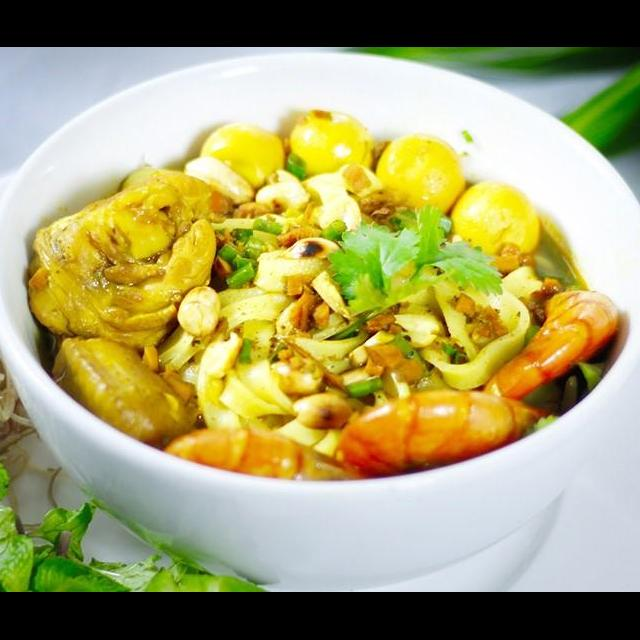mi: (152, 152, 548, 436)
thit ga: (20, 175, 222, 358), (52, 332, 202, 456)
tom: (328, 384, 556, 486), (478, 286, 622, 414), (154, 424, 372, 496)
trung: (364, 132, 468, 225), (442, 176, 544, 262), (280, 108, 382, 190), (196, 120, 292, 192)
